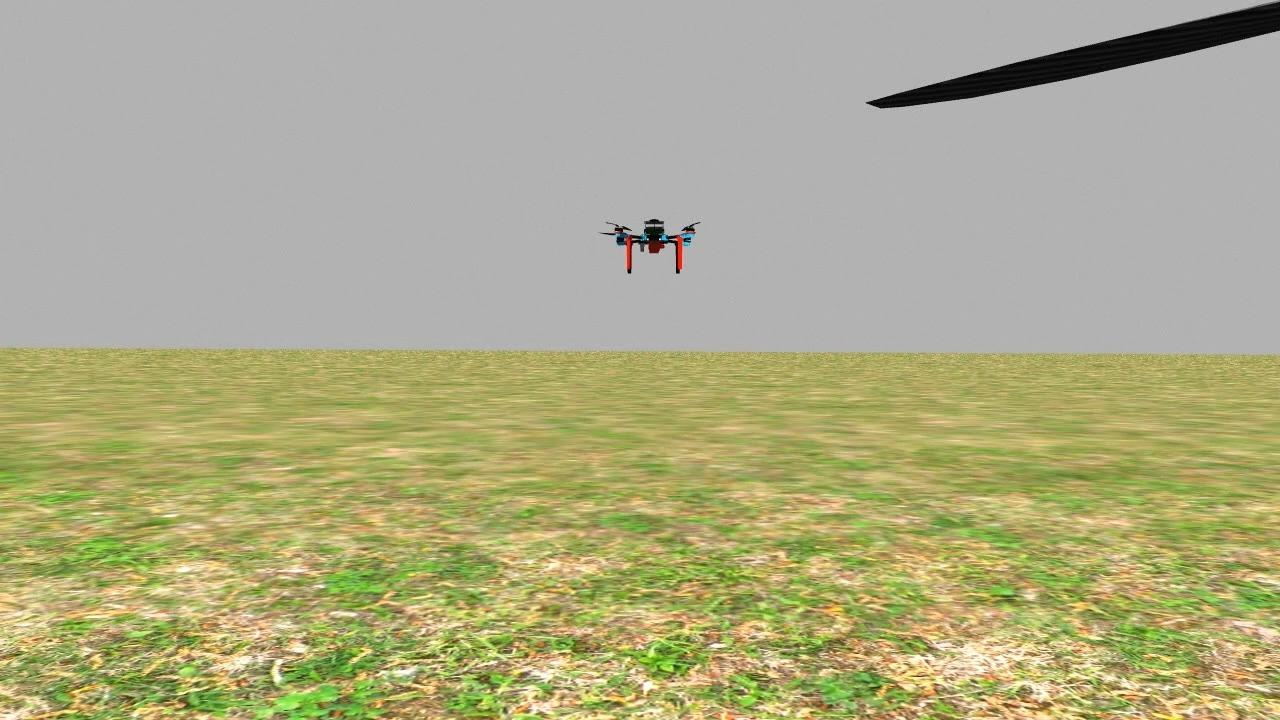UAV: (592, 201, 719, 277)
